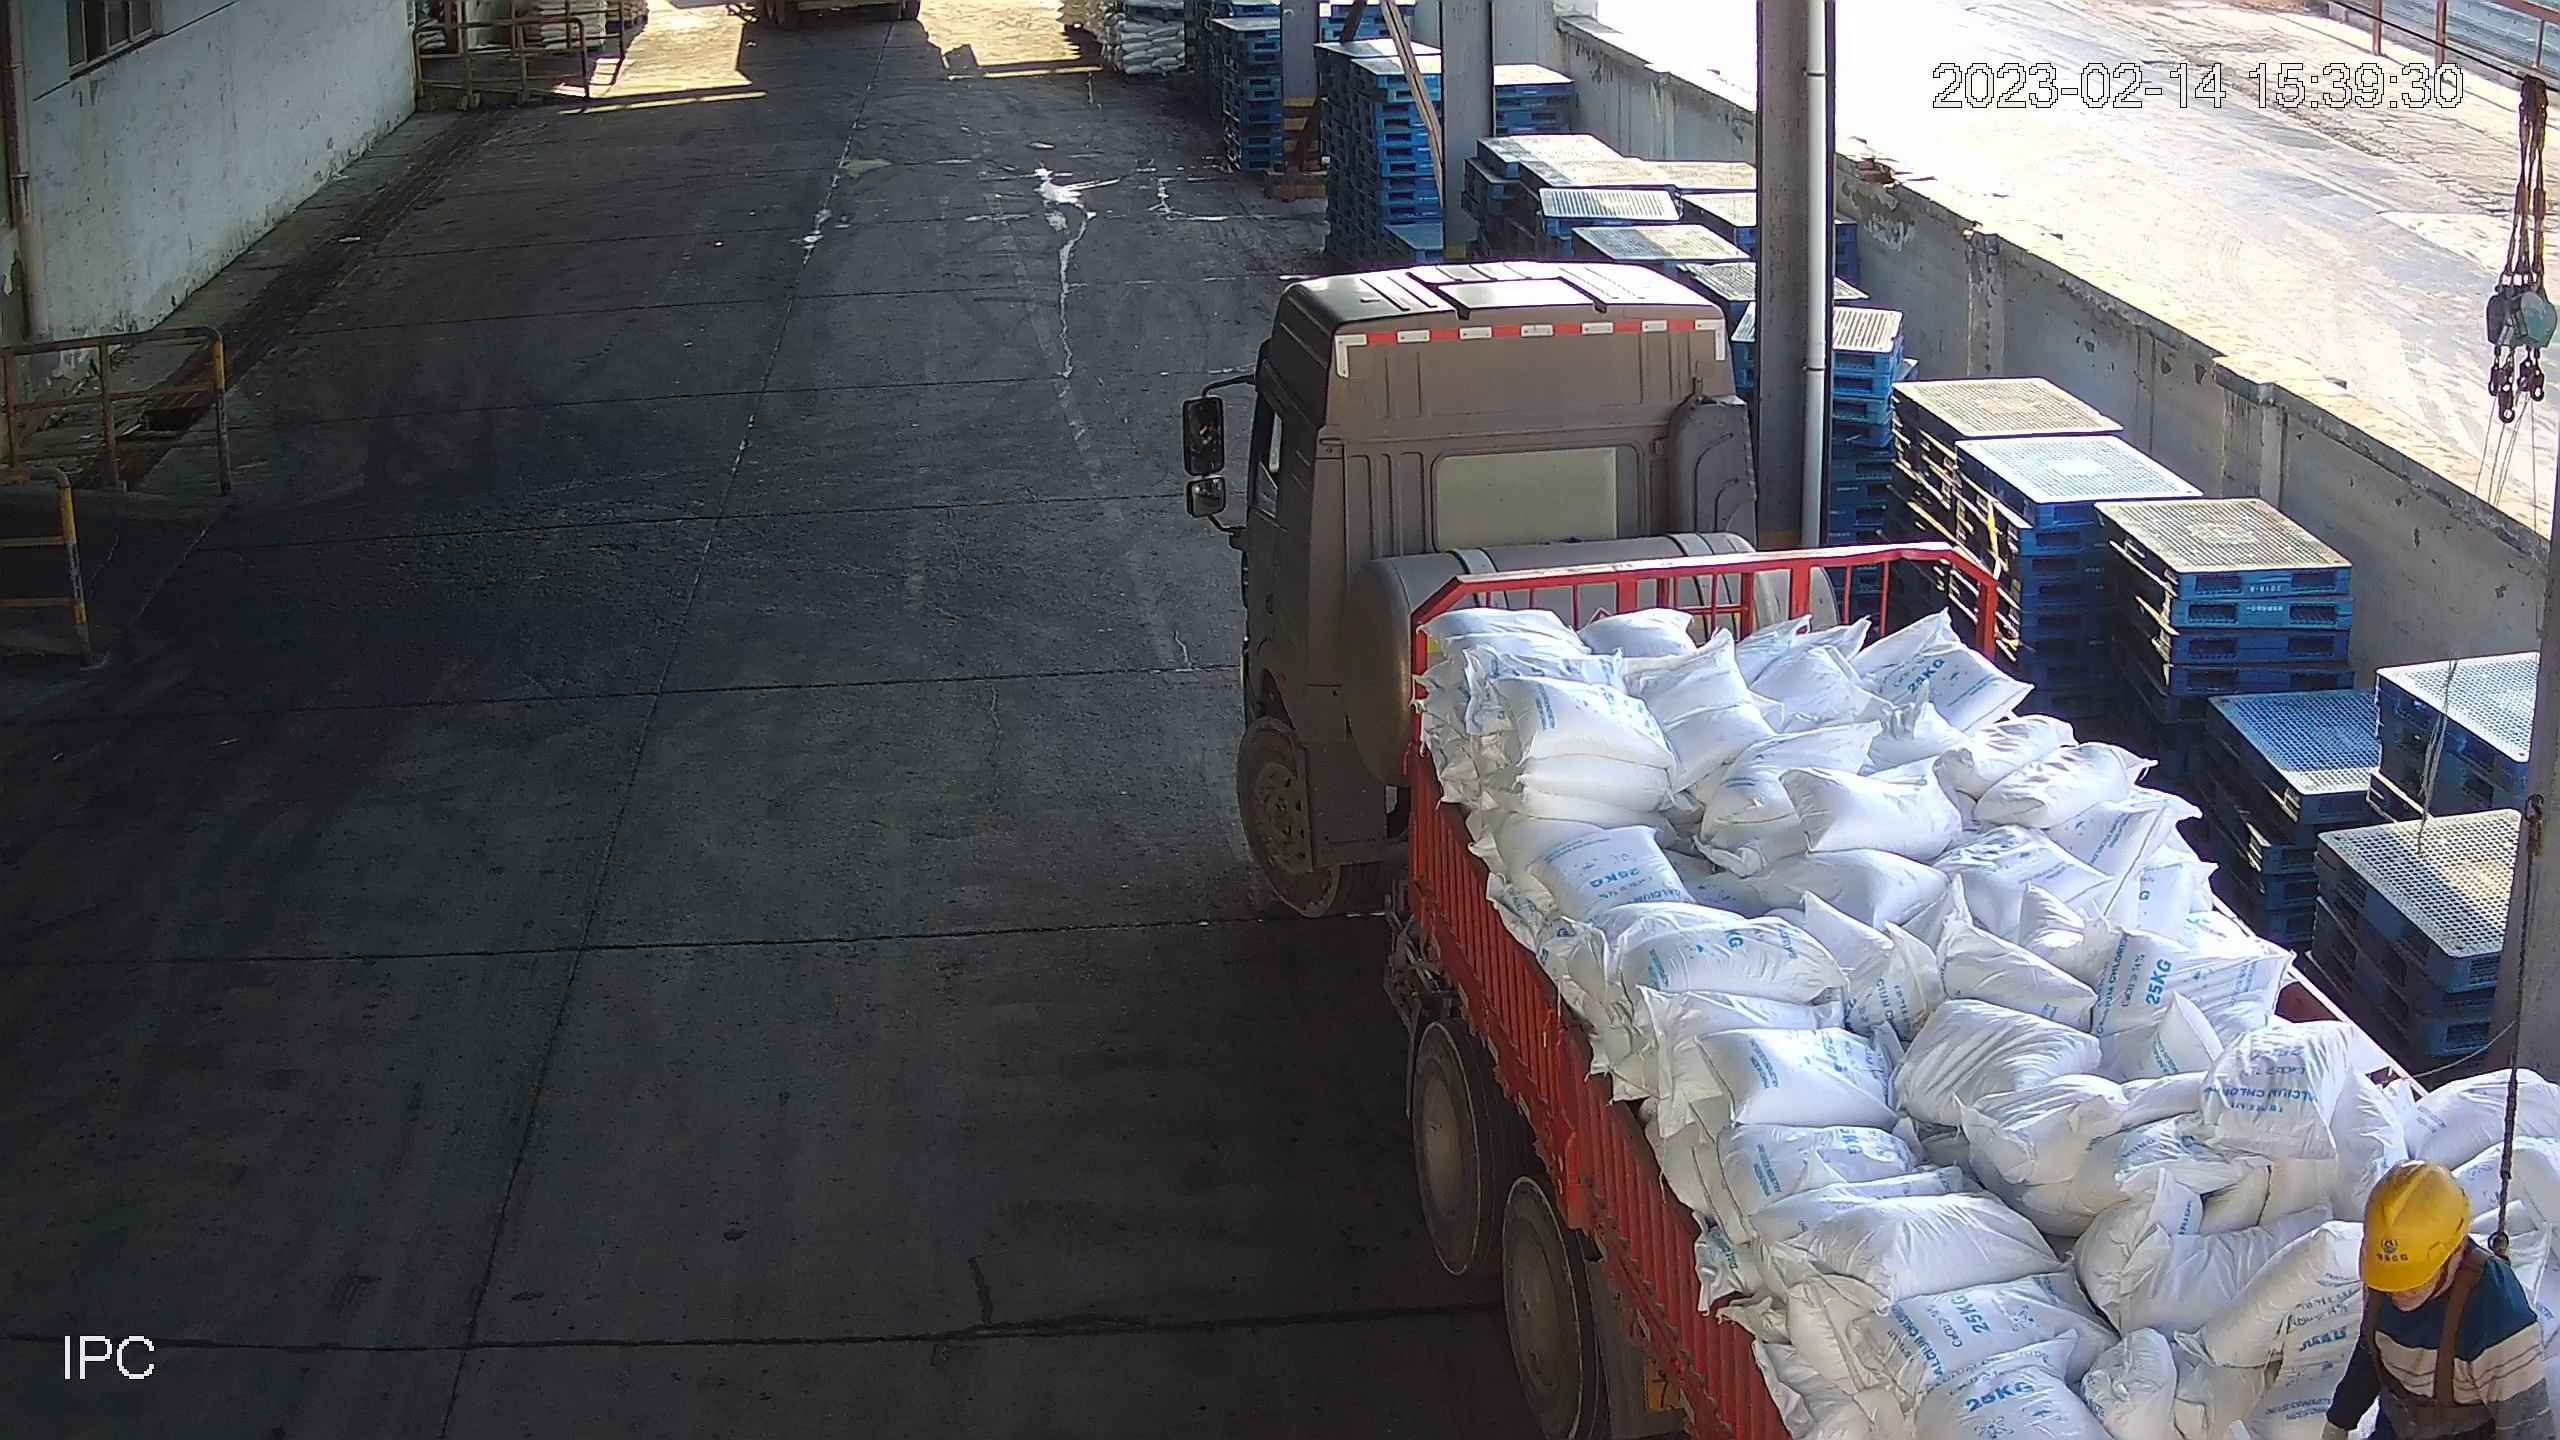belt: (2370, 1299, 2523, 1440)
head: (2346, 1165, 2539, 1355)
helmet: (2358, 1167, 2472, 1286)
truck: (1184, 250, 2560, 1440)
